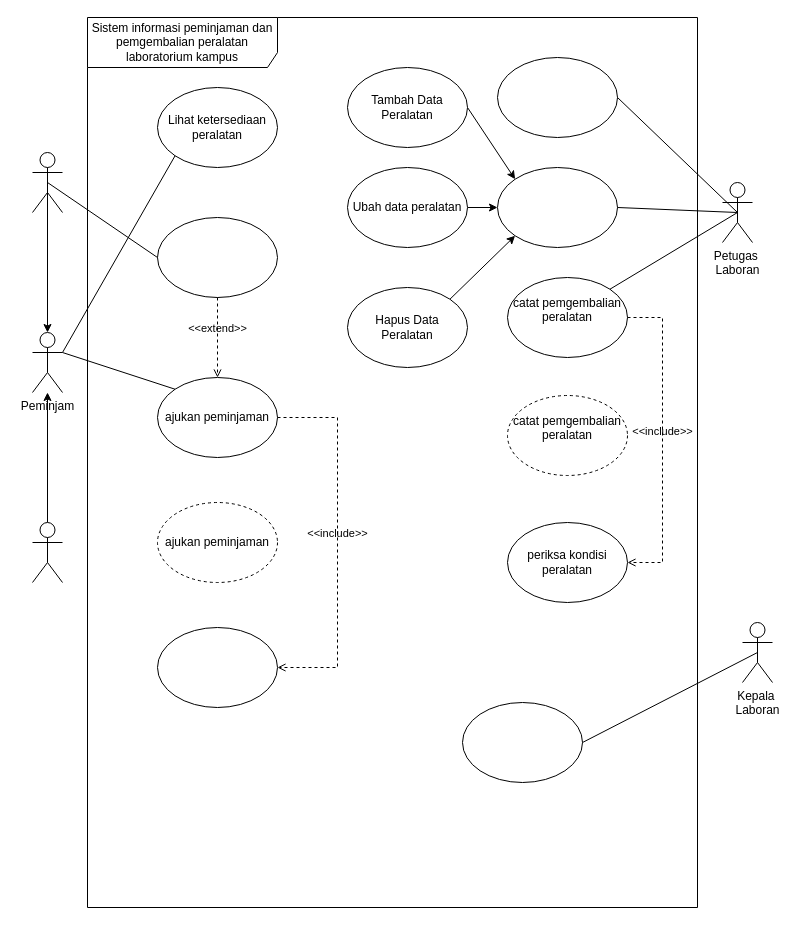
This 797x925 diagram has some shape labels left out. The centre of each missing label's shape, as x and y in pixels:
cetak bukti pengajuan: point (217, 257)
Dosen: point (47, 552)
Kelola data peralatan: point (557, 207)
lihat laporan peminjaman: point (522, 742)
Mahasiswa: point (47, 182)
periksa ketersediaan: point (217, 667)
Proses keputusan peminjaman: point (557, 97)
